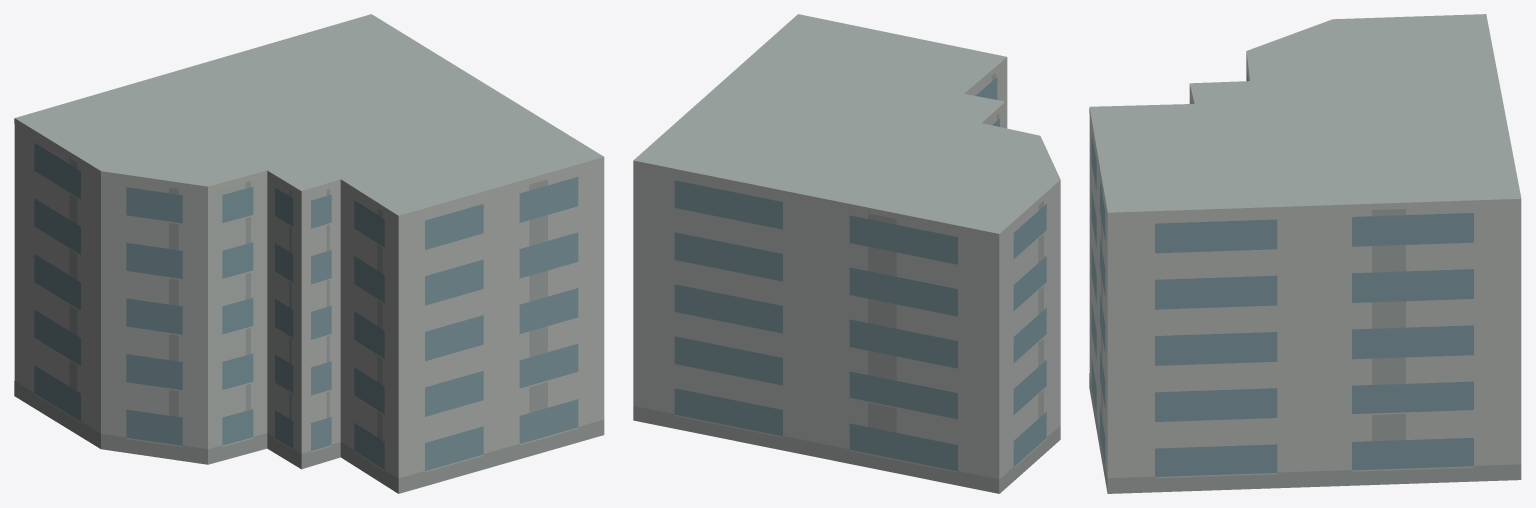
The model's file is survey-upis-32797691.glb.
3 renders of one model, left to right at view 1: azimuth 30°, elevation 25°; view 2: azimuth 150°, elevation 25°; view 3: azimuth 270°, elevation 25°, orthographic. The views are drawn at different scales.
Parts seen in each view (by area): view 1: survey-upis-32797691.tmp; view 2: survey-upis-32797691.tmp; view 3: survey-upis-32797691.tmp.
Boxes of the visible parts, bbox=[...] form: survey-upis-32797691.tmp: bbox=[14, 14, 604, 493]; survey-upis-32797691.tmp: bbox=[633, 14, 1060, 493]; survey-upis-32797691.tmp: bbox=[1089, 14, 1521, 493].
Size of the model in its own units: 16.53 by 10.9 by 15.19.
